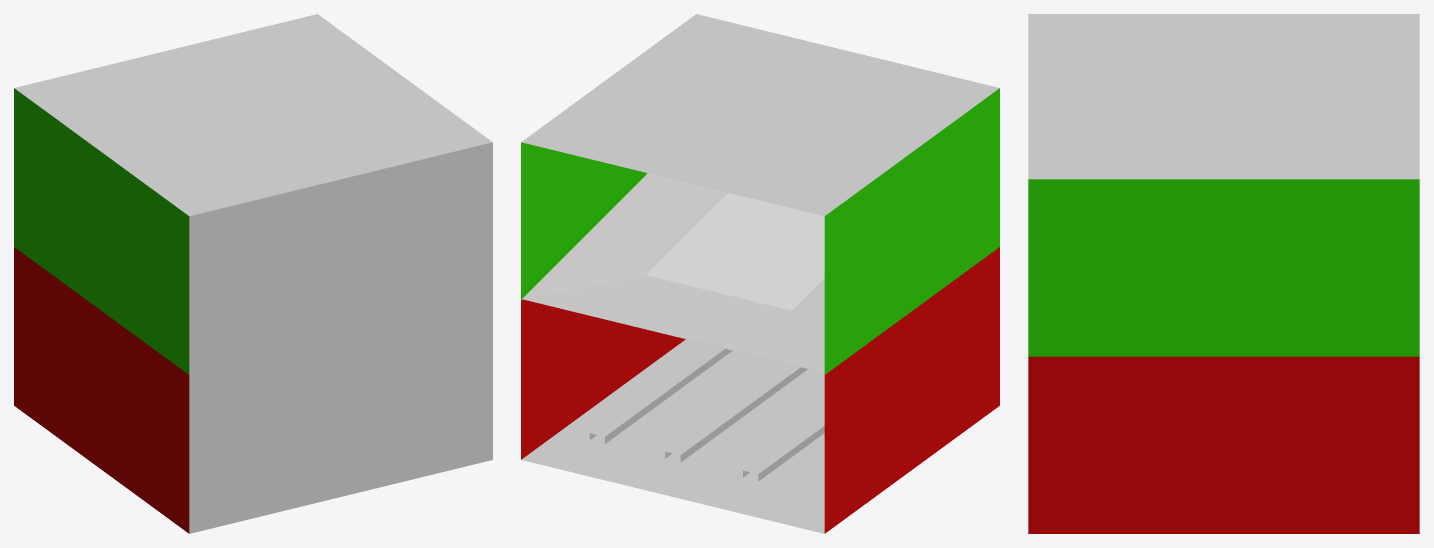
The model's file is Multilayer.fbx.
The picture shows the model from 3 angles, left to right: view 1: azimuth 30°, elevation 25°; view 2: azimuth 150°, elevation 25°; view 3: azimuth 270°, elevation 25°; orthographic projection. The views are drawn at different scales.
Parts seen in each view (by area): view 1: Cube.003; view 2: Cube.003; view 3: Cube.003.
Part boxes in pixels (x1=…): Cube.003: x1=14, y1=14, x2=492, y2=533; Cube.003: x1=521, y1=14, x2=999, y2=533; Cube.003: x1=1028, y1=14, x2=1419, y2=533.
Bounding box in the file's own units: 31.88 × 31.88 × 31.88.
